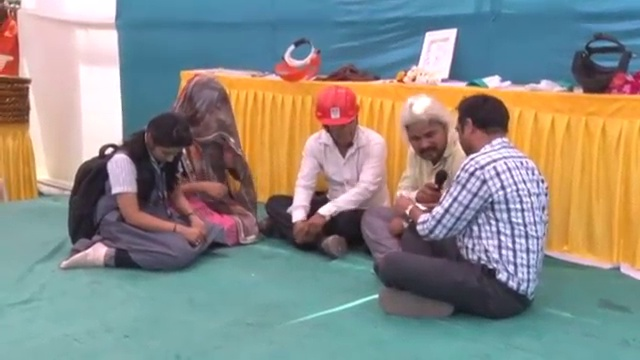helmet: (312, 87, 362, 129), (0, 53, 14, 74)
helmet_off: (452, 93, 514, 161), (176, 78, 236, 139), (399, 97, 453, 161), (135, 111, 196, 165), (0, 0, 19, 26)
helmet_on: (311, 87, 364, 150)
person: (369, 86, 545, 323), (60, 110, 215, 269), (262, 78, 393, 256), (161, 68, 261, 245), (363, 89, 464, 259), (0, 2, 21, 78)
